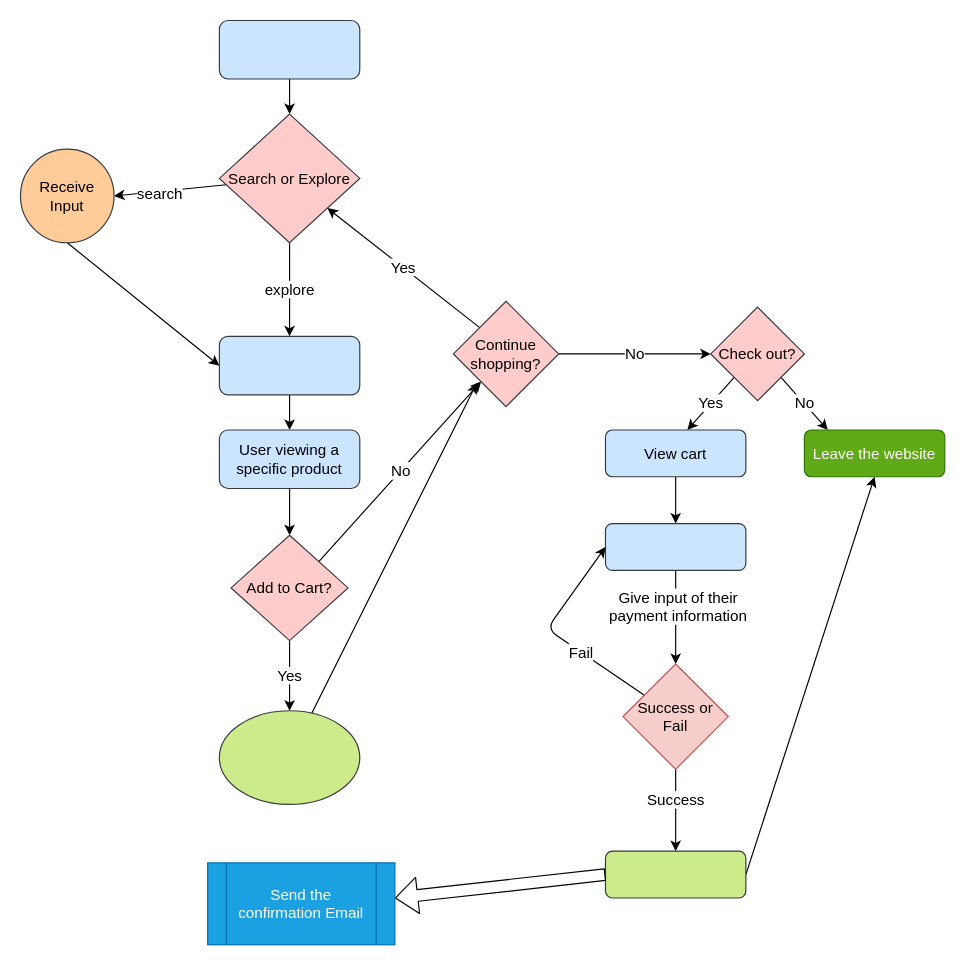
The diagram is 965 pixels wide and 965 high, and some of its shapes have lost their labels. The shapes that lost their labels are listed below. From the top down, each one's centre as x and y in pixels, then its label:
At [289,49]: "User Enters website".
At [289,365]: "User looking over the product".
At [675,546]: "View payment".
At [289,757]: "Added to cart confirmation".
At [675,874]: "Confirmation screen".
